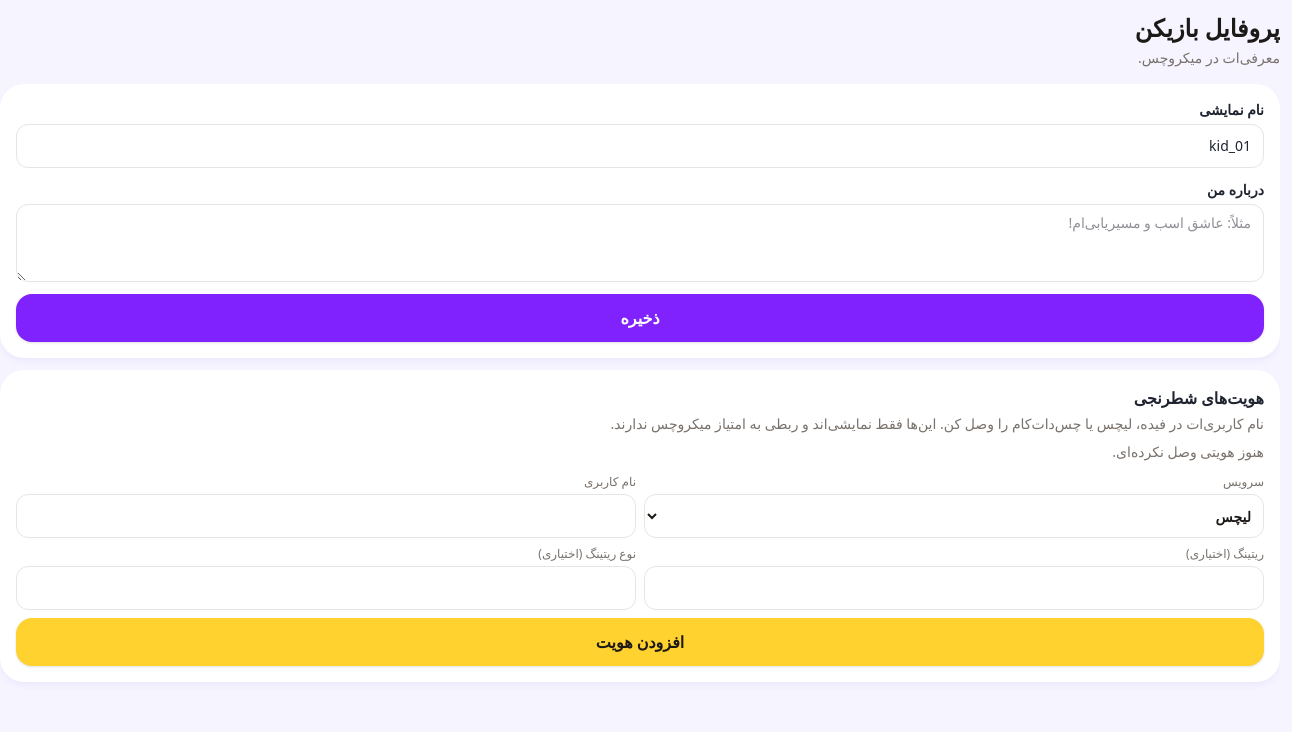
profile page › renders the server profile and saves edits
Expected: the heading "پروفایل بازیکن" is shown, [1135,11,1280,44]
Replace the text in the field labelled "نام نمایشی" with "Omid". click: (640, 146)
box: [16,124,1264,168]
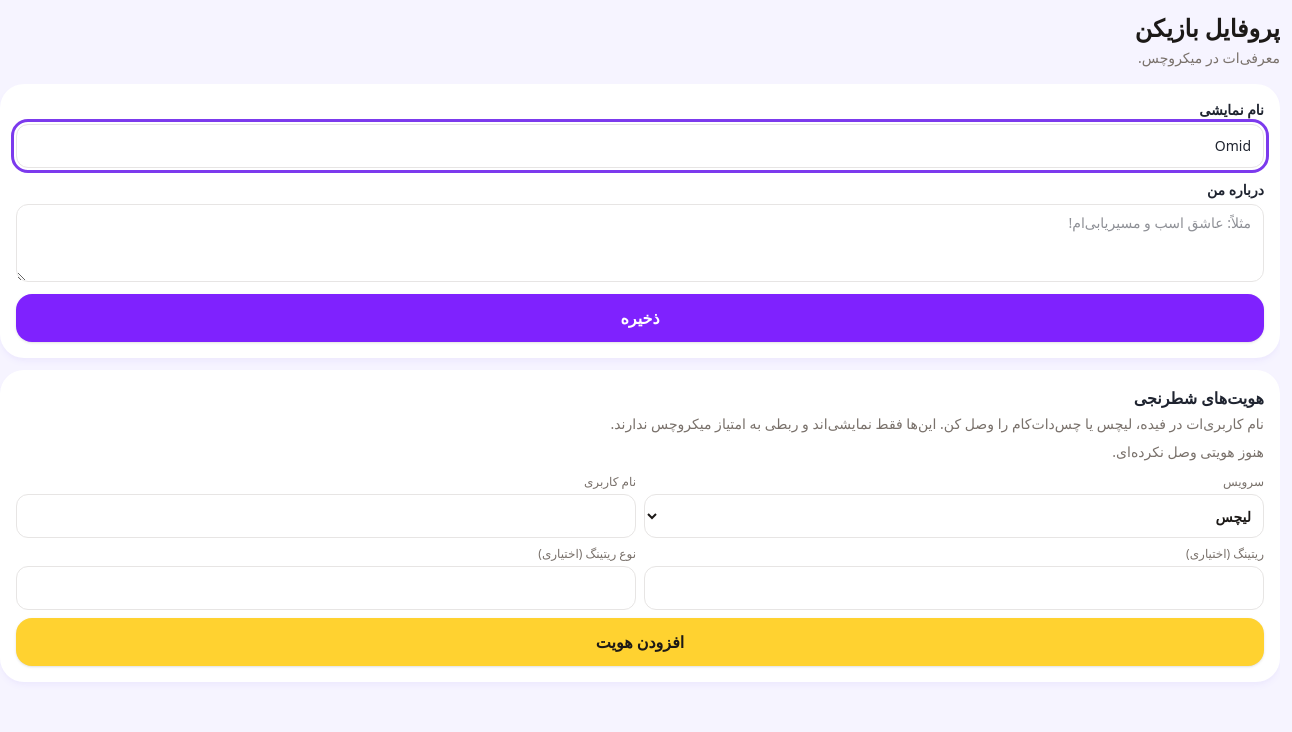
Click the button "ذخیره". click: (640, 318)
box: [16,294,1264,342]
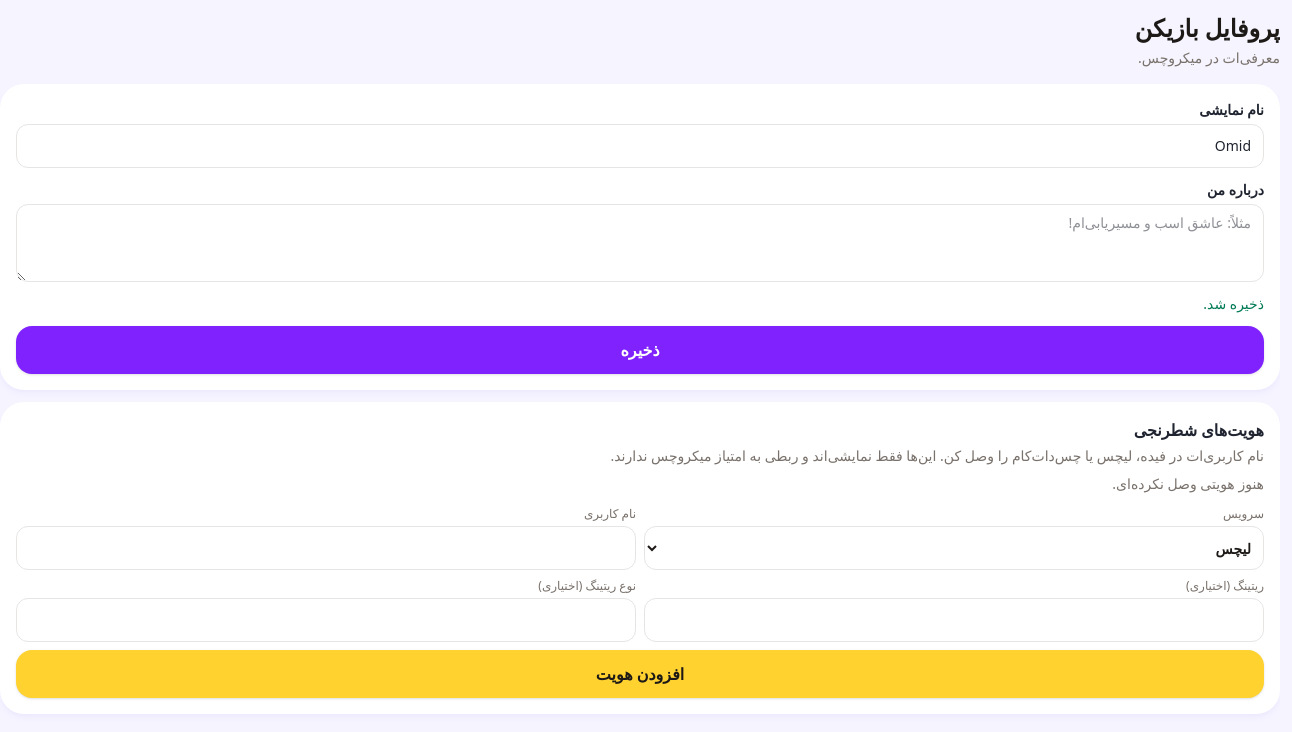
Expected: the text "ذخیره شد." is shown, [1203,294,1264,313]
